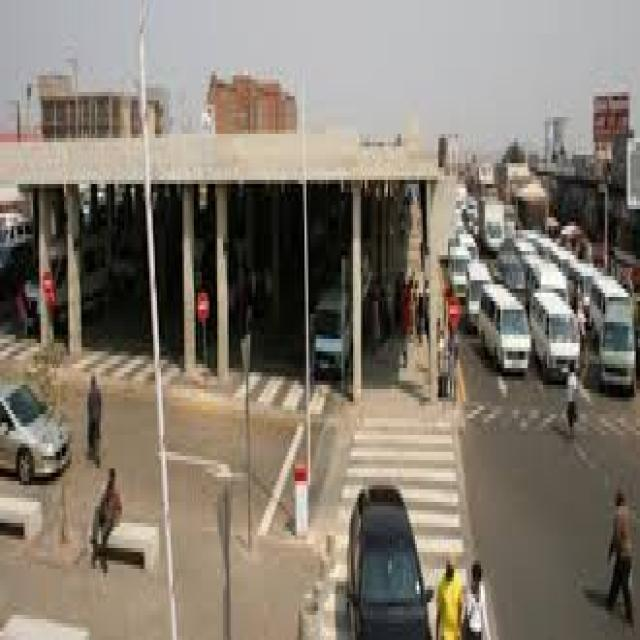MiniBus taxi: (477, 280, 531, 381), (592, 293, 636, 393), (533, 292, 582, 380)
Passenger Car: (2, 376, 72, 486)
Pedestrians: (609, 481, 636, 623), (80, 364, 104, 468), (564, 352, 586, 439)
